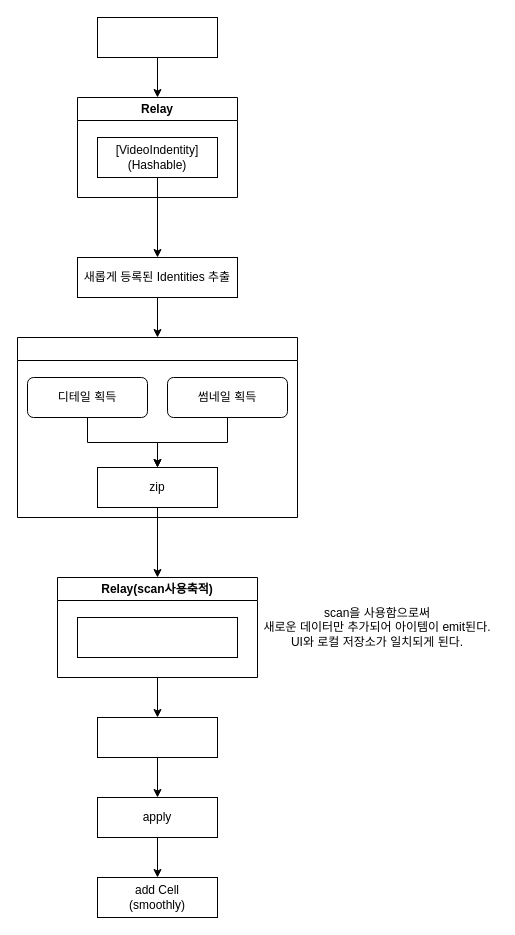
Image size: 515x935. Some labels were removed from this diagram. The centre of each missing label's shape, as x and y in pixels:
"[VideoCellViewModel] (Hashable)" goes at (157,637).
"fetchList" goes at (157,37).
"SnapShot" goes at (157,737).
"VideoCellViewModel" goes at (157,427).
